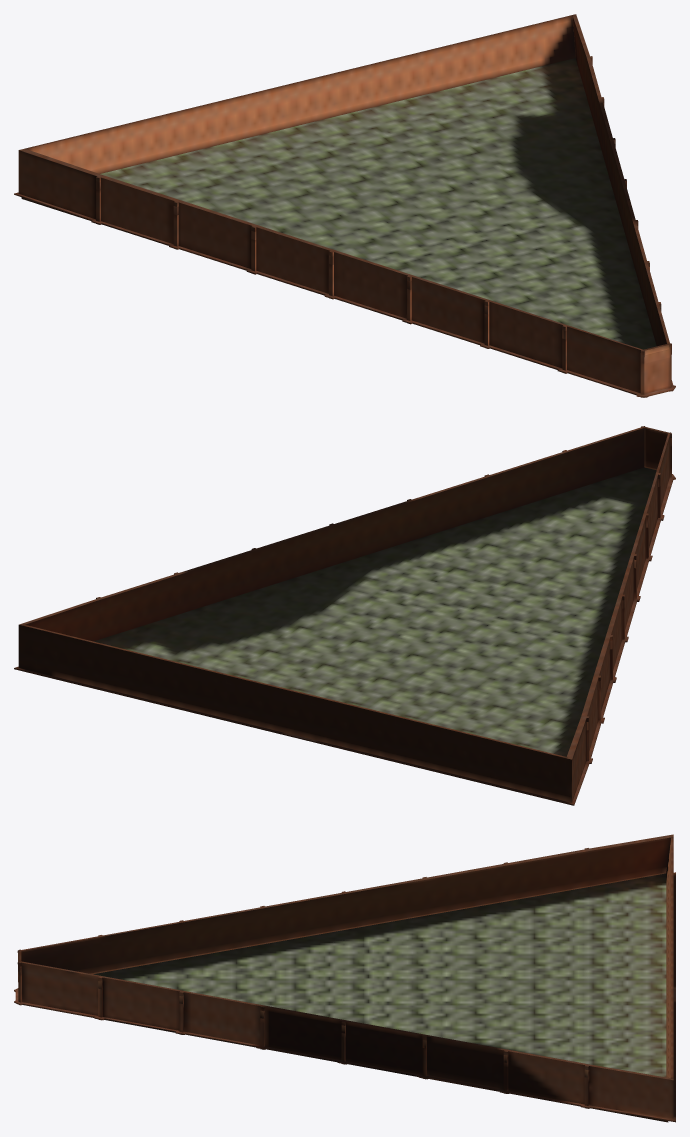
File: Triangle.fbx
3 views of the same model, one above another, from view 1: azimuth 30°, elevation 25°; view 2: azimuth 150°, elevation 25°; view 3: azimuth 270°, elevation 25° (orthographic). The views are drawn at different scales.
Parts seen in each view (by area): view 1: Cube; view 2: Cube; view 3: Cube.
Part boxes in pixels (x1=…): Cube: x1=14, y1=14, x2=675, y2=397; Cube: x1=14, y1=426, x2=675, y2=805; Cube: x1=14, y1=834, x2=675, y2=1122.
Size of the model in its own units: 3074 by 243 by 3455.
